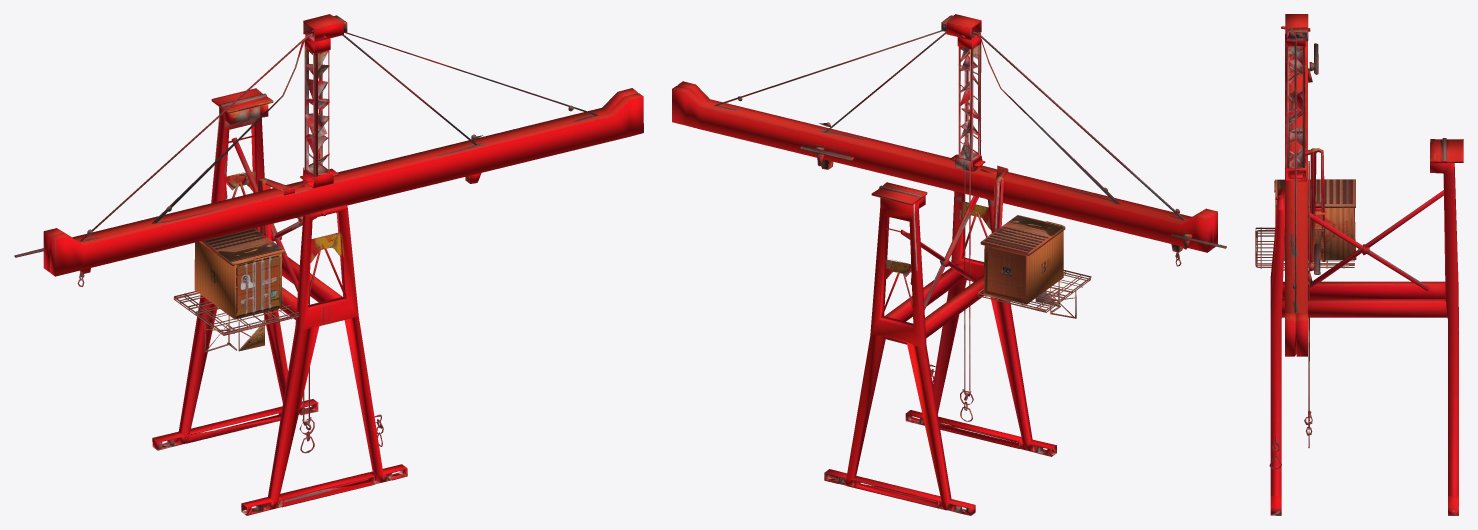
Rendered from harbor_crane.glb.
3 renders of one model, left to right at view 1: azimuth 30°, elevation 25°; view 2: azimuth 150°, elevation 25°; view 3: azimuth 270°, elevation 25°, orthographic. The views are drawn at different scales.
Size of the model in its own units: 0.9575 by 0.6935 by 0.2837.
1 material, 1 textured.
